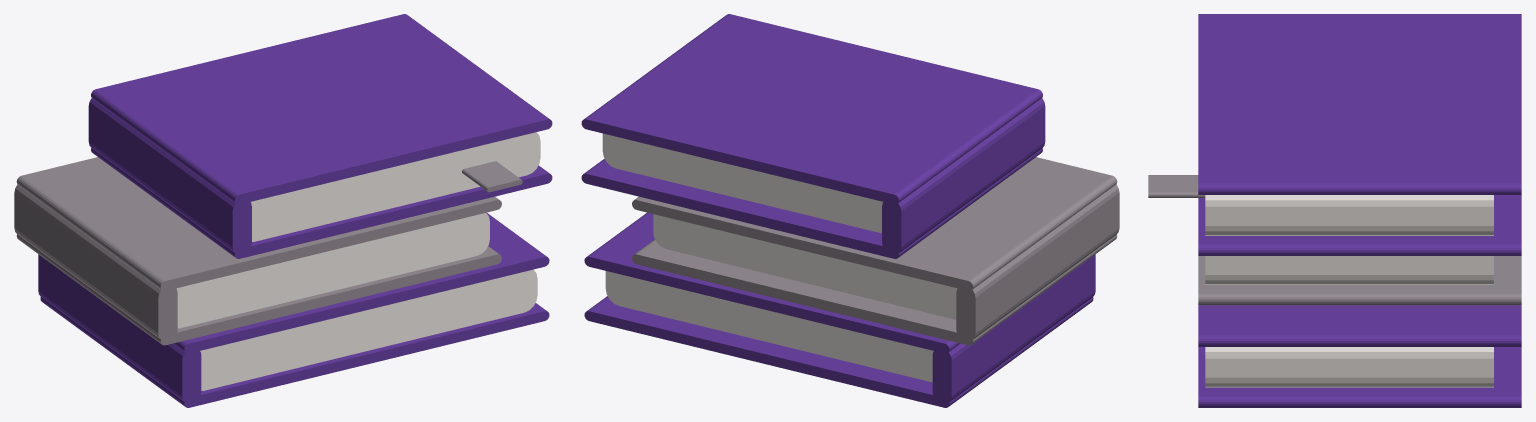
File: books.glb
3 views of the same model, side by side, from view 1: azimuth 30°, elevation 25°; view 2: azimuth 150°, elevation 25°; view 3: azimuth 270°, elevation 25° (orthographic). The views are drawn at different scales.
Parts seen in each view (by area): view 1: cover 2 0.175, cover 1 0.175, pages 0, pages 1, pages 2, spine 2, spine 1, spine 0, cover 0 0.175, cover 0 0, cover 1 0, cover 2 0 (+1 smaller); view 2: cover 2 0.175, cover 1 0.175, pages 0, pages 1, pages 2, cover 0 0, spine 1, cover 1 0, spine 2, cover 2 0, spine 0, cover 0 0.175; view 3: cover 2 0.175, cover 0 0.175, pages 0, pages 2, pages 1, cover 0 0, cover 2 0, cover 1 0, ribbon.
Boxes of the visible parts, x1=… form: cover 2 0.175: x1=91, y1=14, x2=552, y2=204; cover 1 0.175: x1=16, y1=157, x2=501, y2=290; pages 0: x1=200, y1=269, x2=537, y2=390; pages 1: x1=176, y1=213, x2=489, y2=328; pages 2: x1=251, y1=132, x2=540, y2=241; spine 2: x1=88, y1=98, x2=251, y2=254; spine 1: x1=14, y1=184, x2=177, y2=341; spine 0: x1=38, y1=254, x2=201, y2=403; cover 0 0.175: x1=173, y1=212, x2=549, y2=353; cover 0 0: x1=40, y1=297, x2=549, y2=407; cover 1 0: x1=16, y1=234, x2=501, y2=345; cover 2 0: x1=91, y1=148, x2=552, y2=258; cover 2 0.175: x1=581, y1=14, x2=1042, y2=204; cover 1 0.175: x1=632, y1=157, x2=1117, y2=290; pages 0: x1=605, y1=271, x2=933, y2=382; pages 1: x1=653, y1=214, x2=957, y2=319; pages 2: x1=602, y1=133, x2=882, y2=233; cover 0 0: x1=584, y1=296, x2=1093, y2=407; spine 1: x1=956, y1=184, x2=1119, y2=341; cover 1 0: x1=632, y1=234, x2=1117, y2=345; spine 2: x1=882, y1=98, x2=1045, y2=254; cover 2 0: x1=581, y1=148, x2=1042, y2=258; spine 0: x1=932, y1=254, x2=1095, y2=403; cover 0 0.175: x1=584, y1=212, x2=960, y2=353; cover 2 0.175: x1=1198, y1=14, x2=1521, y2=194; cover 0 0.175: x1=1198, y1=305, x2=1521, y2=346; pages 0: x1=1205, y1=347, x2=1493, y2=387; pages 2: x1=1205, y1=195, x2=1493, y2=235; pages 1: x1=1205, y1=256, x2=1493, y2=284; cover 0 0: x1=1198, y1=347, x2=1521, y2=407; cover 2 0: x1=1198, y1=195, x2=1521, y2=255; cover 1 0: x1=1198, y1=256, x2=1521, y2=305; ribbon: x1=1148, y1=175, x2=1205, y2=197.
Bounding box in the file's own units: 1.33 × 0.647 × 0.97.
